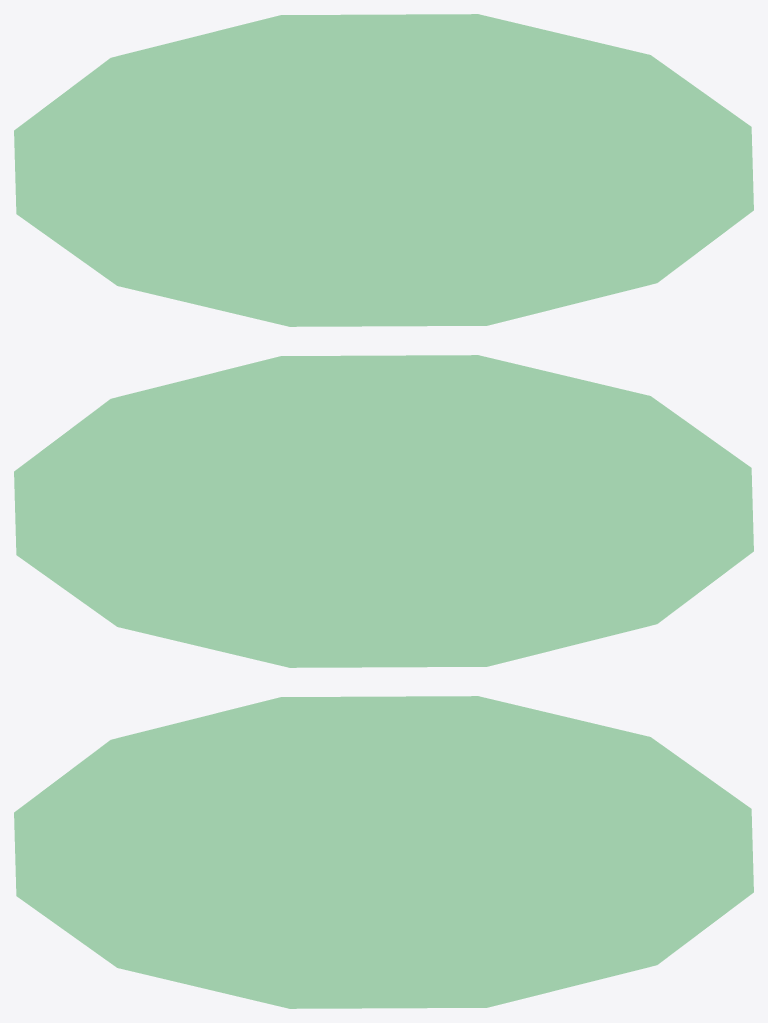
The model's file is UniversalWater_CoockingPot.fbx.
3 renders of one model, top to bottom at view 1: azimuth 30°, elevation 25°; view 2: azimuth 150°, elevation 25°; view 3: azimuth 270°, elevation 25°, orthographic.
Visible parts, largest first — view 1: UniversalWater_CoockingPot; view 2: UniversalWater_CoockingPot; view 3: UniversalWater_CoockingPot.
Boxes of the visible parts, x1,y1,x2,y2 form: UniversalWater_CoockingPot: (14,14,753,326); UniversalWater_CoockingPot: (14,355,753,667); UniversalWater_CoockingPot: (14,696,753,1008).
Bounding box in the file's own units: 55.5 × 55.5 × 0.
